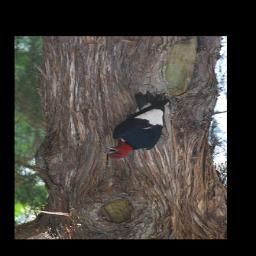Woodpecker: (98, 91, 176, 161)
